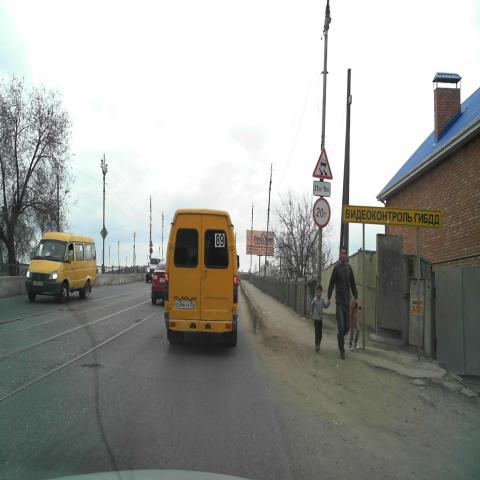3_11: (312, 198, 331, 228)
8_5_4: (313, 180, 331, 198)
